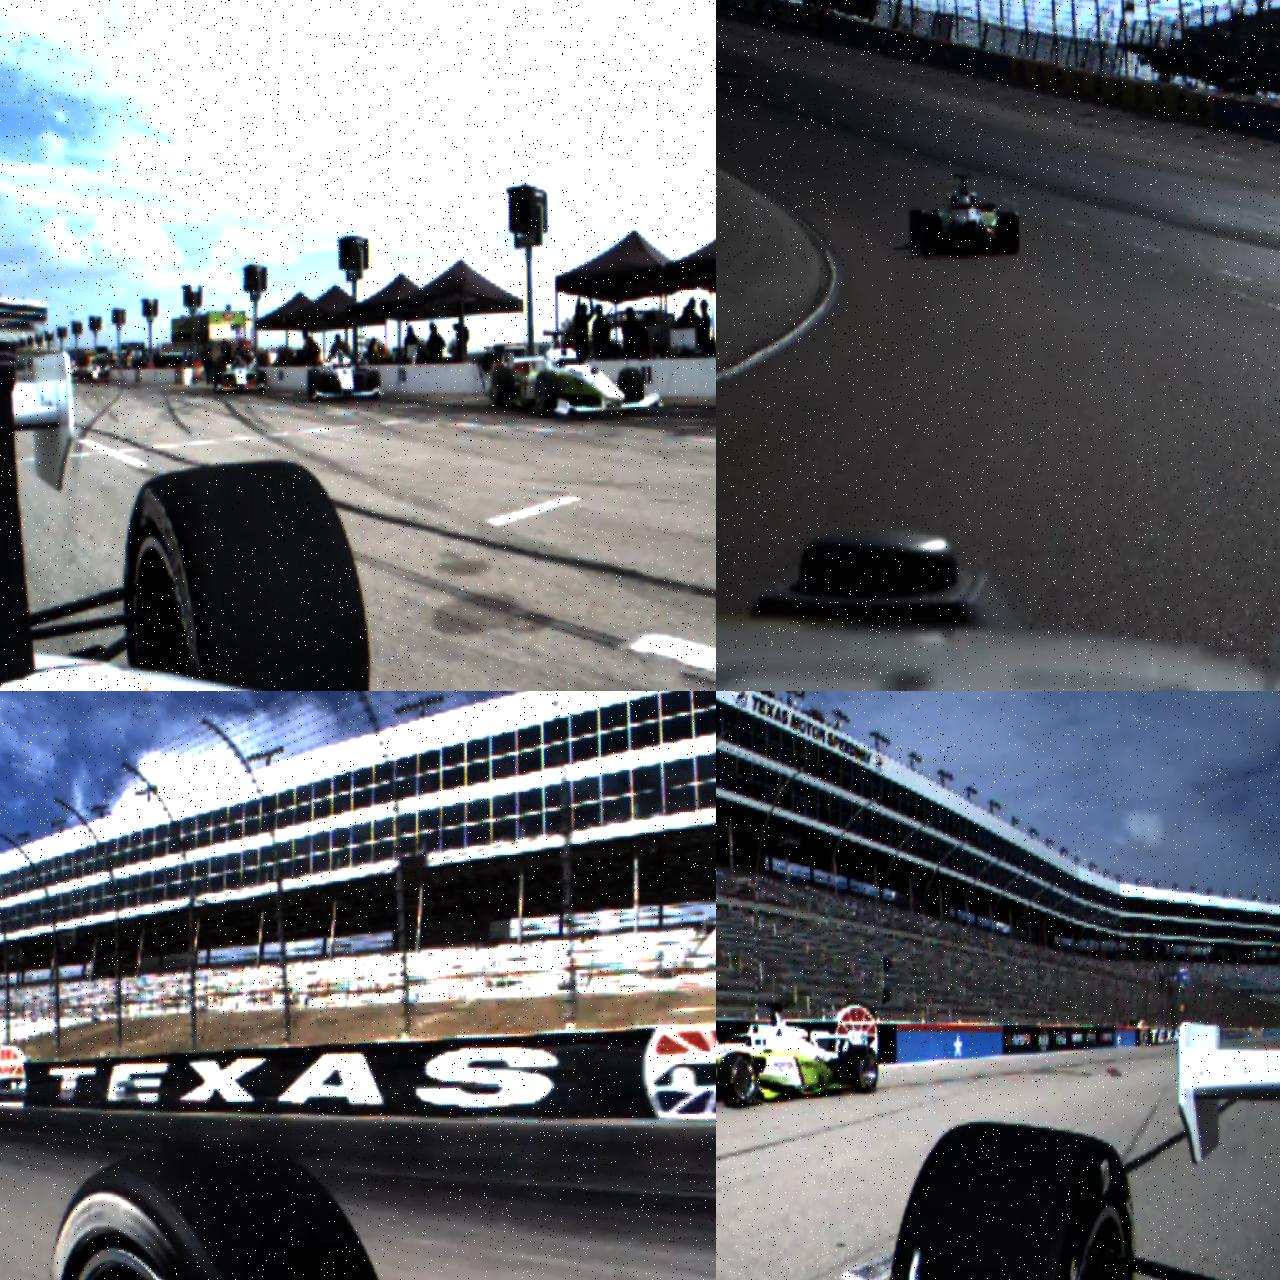AV: (716, 1000, 879, 1111), (490, 328, 665, 418), (908, 172, 1021, 259), (306, 345, 382, 401), (215, 355, 268, 395)
Wheel: (124, 459, 372, 692), (45, 1141, 411, 1280), (881, 1118, 1142, 1280), (719, 1051, 760, 1109), (847, 1044, 879, 1095), (618, 367, 644, 415), (491, 367, 516, 410), (919, 215, 942, 258), (536, 372, 558, 415), (999, 211, 1020, 257), (908, 210, 924, 251), (366, 370, 381, 399), (258, 370, 266, 392)
